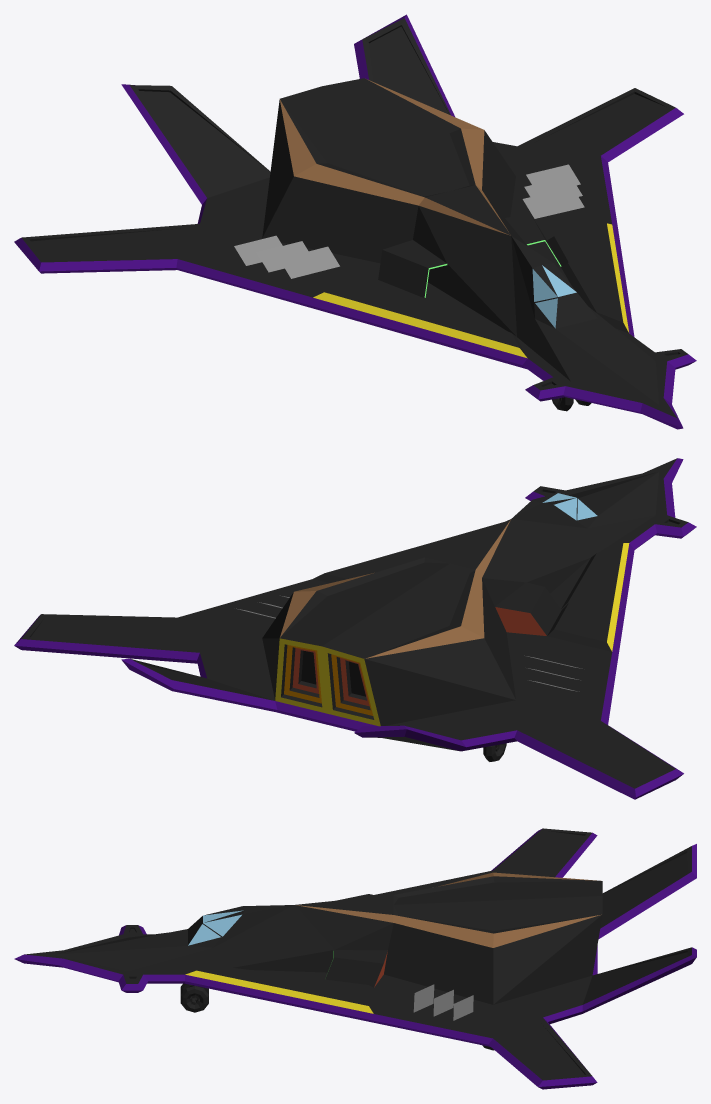
The model's file is Jet.fbx.
3 renders of one model, top to bottom at view 1: azimuth 30°, elevation 25°; view 2: azimuth 150°, elevation 25°; view 3: azimuth 270°, elevation 25°, orthographic. The views are drawn at different scales.
Visible parts, largest first — view 1: Plane; view 2: Plane; view 3: Plane, FL.
Boxes of the visible parts, box(x1,y1,x2,y2) form: Plane: box(14, 14, 696, 429); Plane: box(14, 458, 696, 799); Plane: box(14, 828, 696, 1089); FL: box(180, 986, 208, 1012).
Bounding box in the file's own units: 6.1 × 1.25 × 6.87.
1 material, 1 textured.
